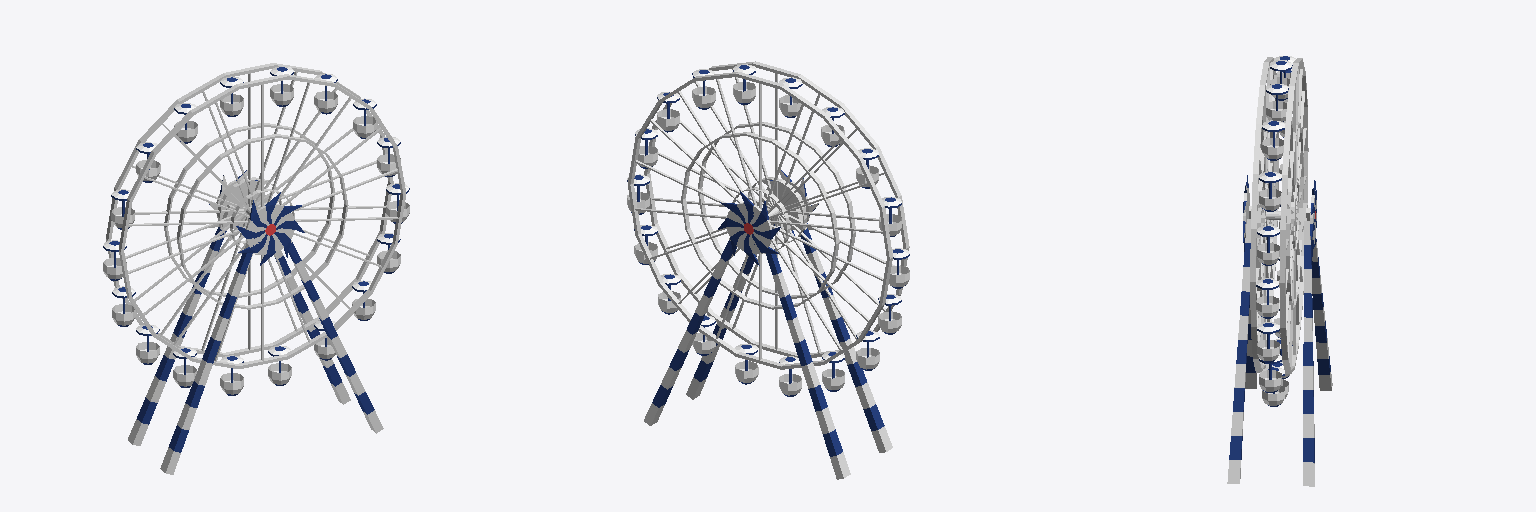
3 renders of one model, left to right at view 1: azimuth 30°, elevation 25°; view 2: azimuth 150°, elevation 25°; view 3: azimuth 270°, elevation 25°, orthographic.
Visible parts, largest first — view 1: Ferris_Wheel_Cylinder.004; view 2: Ferris_Wheel_Cylinder.004; view 3: Ferris_Wheel_Cylinder.004.
Part boxes in pixels (x1,y1,x2,y2): Ferris_Wheel_Cylinder.004: (103, 63, 409, 474); Ferris_Wheel_Cylinder.004: (627, 61, 909, 479); Ferris_Wheel_Cylinder.004: (1227, 56, 1332, 486).
Bounding box in the file's own units: 2.62 × 3.13 × 0.8207.
Materials: 1 (1 with a texture image).